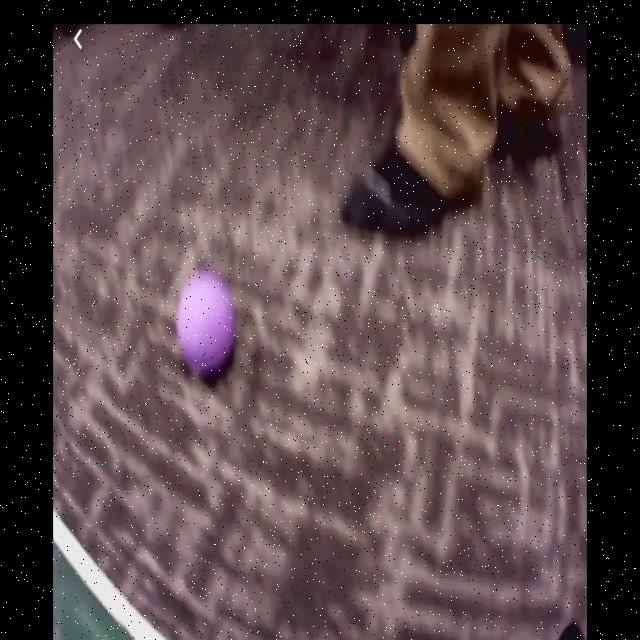ball: (178, 277, 234, 369)
